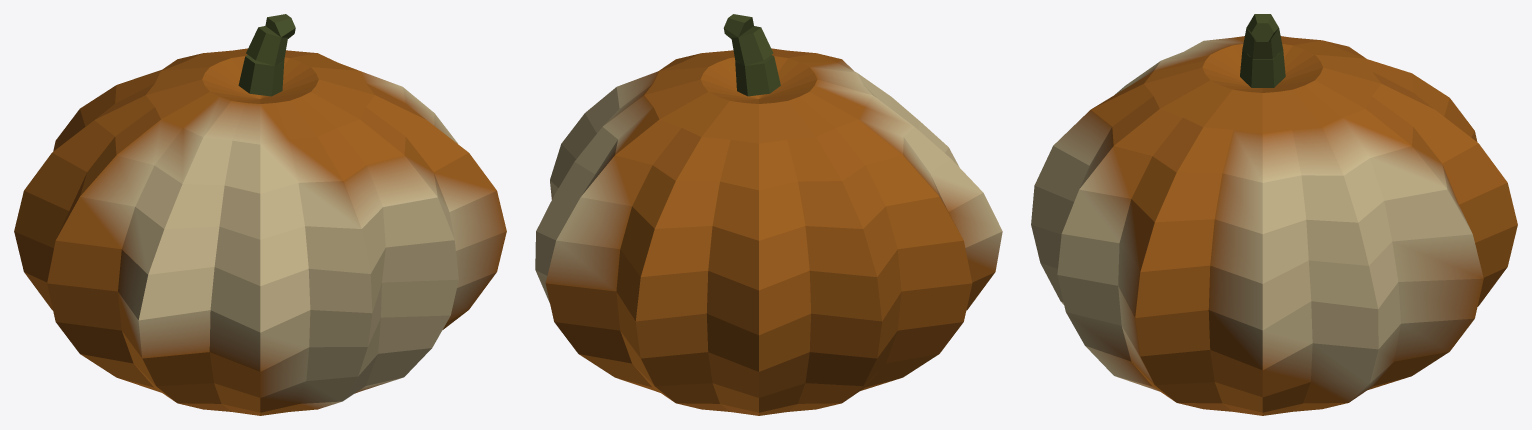
Rendered from pumpkin_prize_giant_gnawed.glb.
3 renders of one model, left to right at view 1: azimuth 30°, elevation 25°; view 2: azimuth 150°, elevation 25°; view 3: azimuth 270°, elevation 25°, orthographic. The views are drawn at different scales.
Visible parts, largest first — view 1: Pumpkin; view 2: Pumpkin; view 3: Pumpkin.
Boxes of the visible parts, x1,y1,x2,y2 form: Pumpkin: (14, 14, 506, 415); Pumpkin: (535, 14, 1002, 415); Pumpkin: (1031, 14, 1517, 415).
Size of the model in its own units: 2.97 by 2.46 by 2.86.
